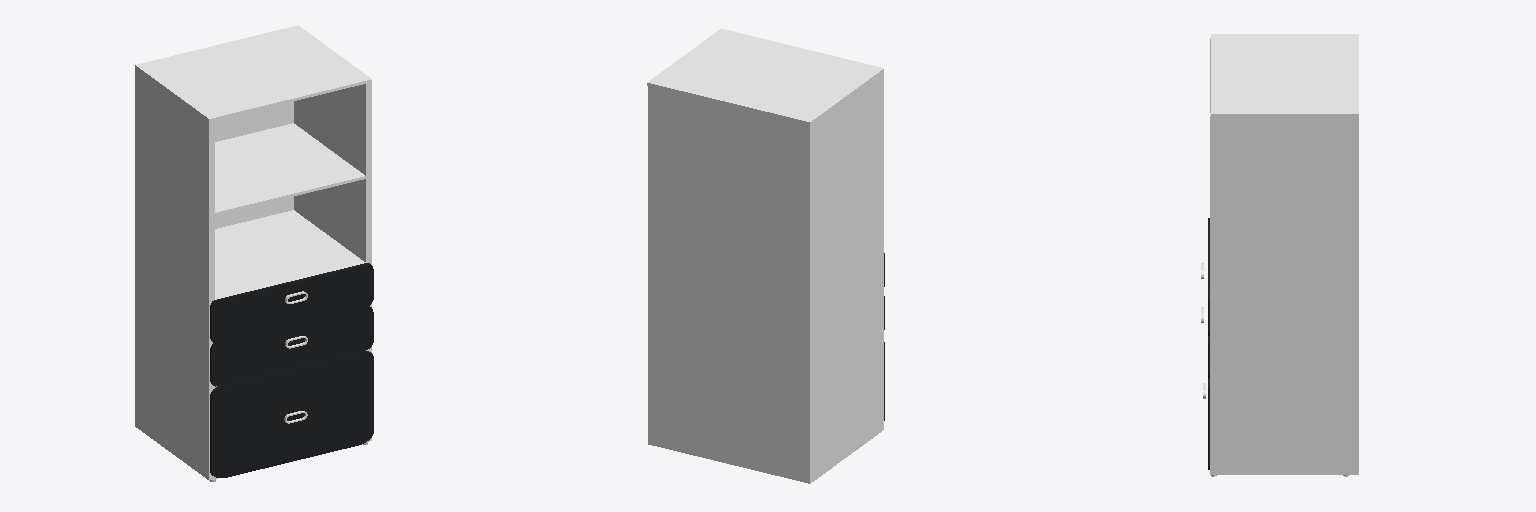
Rendered from StorageFurniture_StuvaFritidsBookcaseBlack.obj.
The picture shows the model from 3 angles: view 1: azimuth 30°, elevation 25°; view 2: azimuth 150°, elevation 25°; view 3: azimuth 270°, elevation 25°; orthographic projection.
Visible parts, largest first — view 1: obj_0; view 2: obj_0; view 3: obj_0.
Part boxes in pixels (x1,y1,x2,y2): obj_0: (135, 25, 373, 481); obj_0: (647, 29, 884, 483); obj_0: (1201, 34, 1358, 476).
Size of the model in its own units: 60 by 128 by 50.